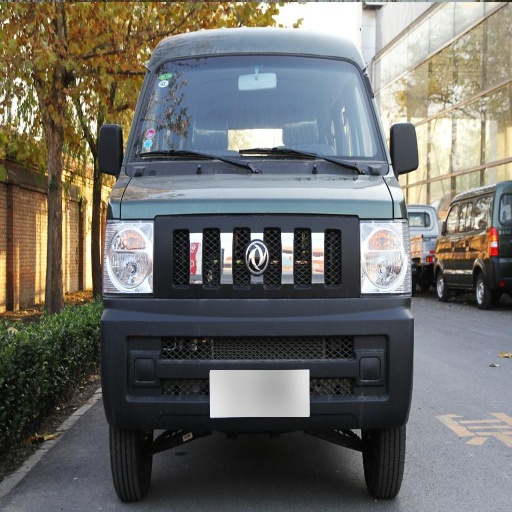front_bumper: (106, 296, 410, 425), (157, 215, 252, 255)
hood: (116, 175, 394, 218)
left_mirror: (391, 123, 419, 174)
trunk: (254, 213, 339, 238)
